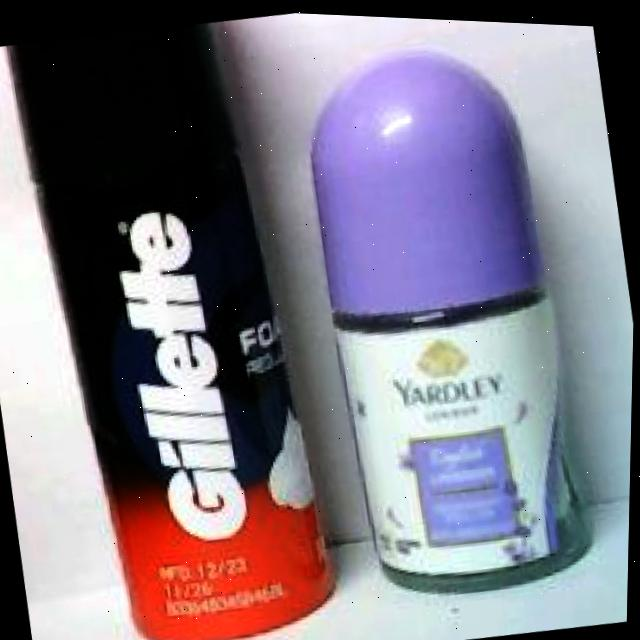gillette-foam: (2, 21, 340, 640)
yardley_rollon: (310, 43, 594, 594)
